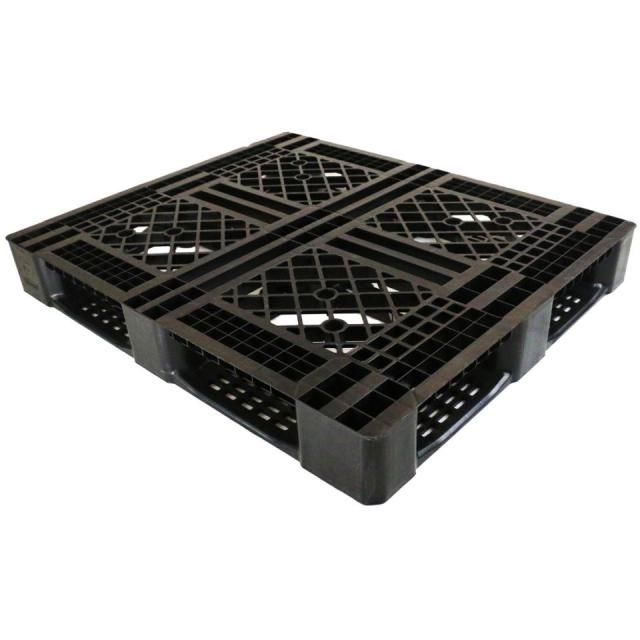non-igps: (0, 125, 640, 512)
